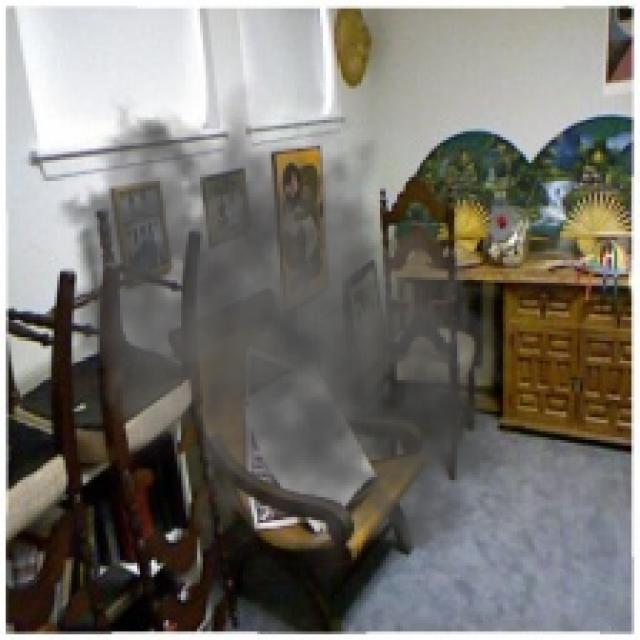Smoke: (26, 77, 543, 592)
